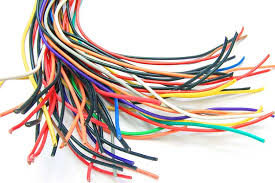more_tube: (18, 4, 248, 159)
